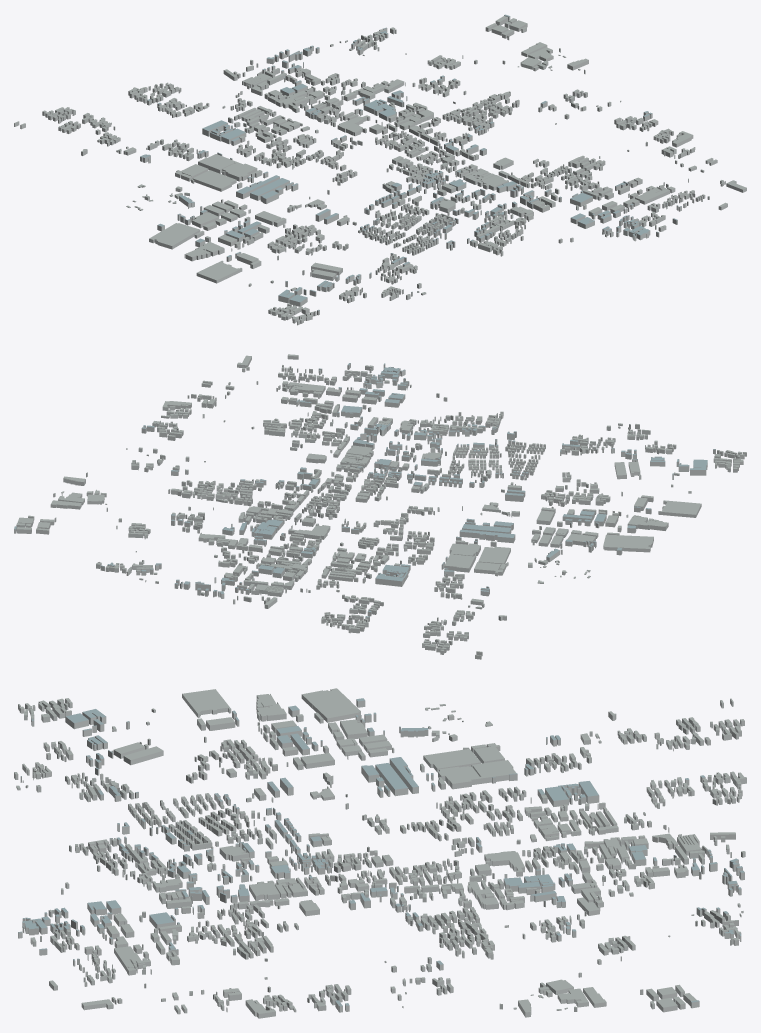
The model's file is far.glb.
3 views of the same model, one above another, from view 1: azimuth 30°, elevation 25°; view 2: azimuth 150°, elevation 25°; view 3: azimuth 270°, elevation 25° (orthographic). The views are drawn at different scales.
Size of the model in its own units: 2208 by 27.2 by 2097.
